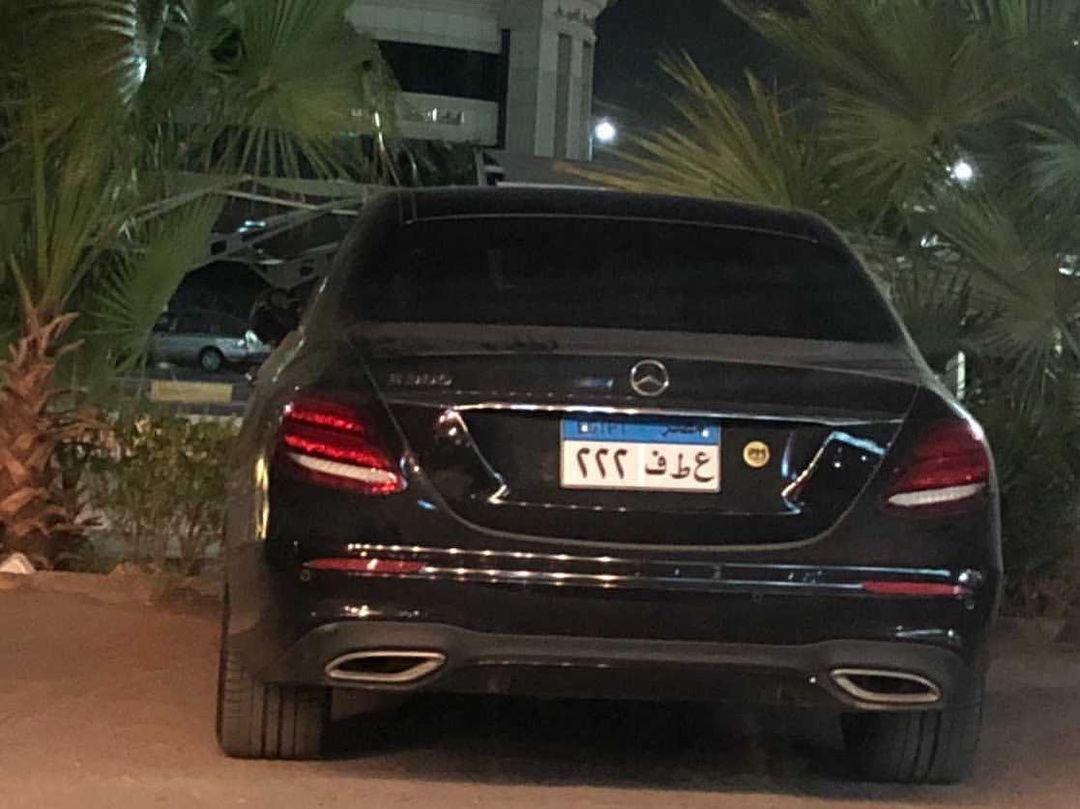carpl: (550, 401, 726, 497)
